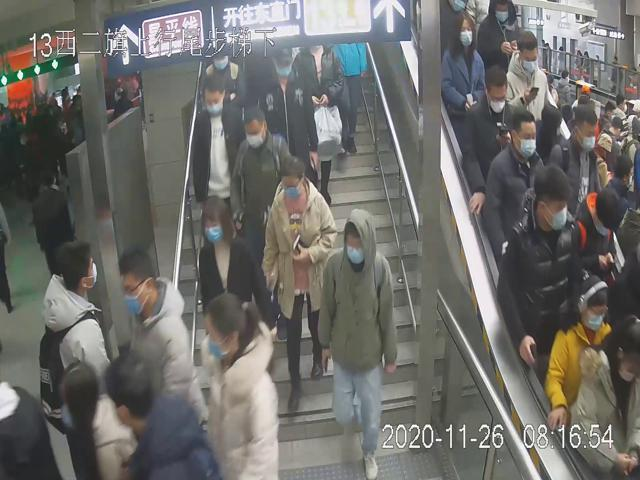person: (317, 208, 398, 478), (260, 155, 338, 432), (495, 164, 579, 364), (199, 291, 281, 480), (479, 109, 545, 256), (193, 193, 265, 327), (455, 64, 519, 214), (228, 104, 293, 236), (252, 48, 318, 178), (192, 75, 245, 211), (441, 9, 487, 121)
